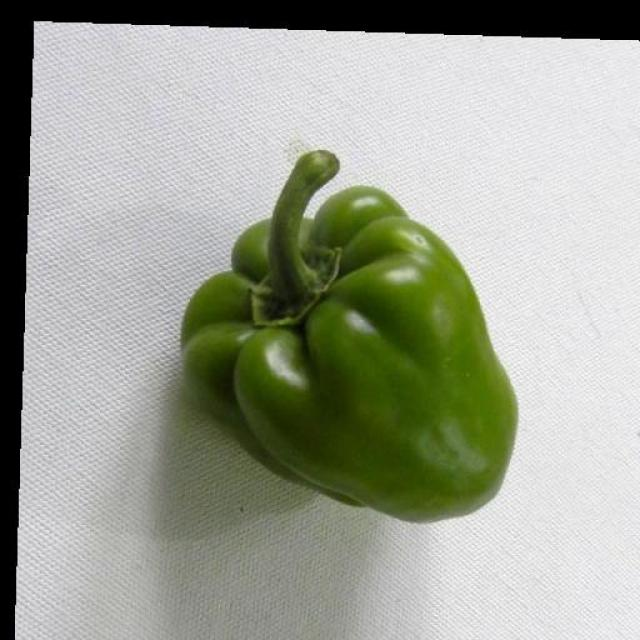Fresh_Capsicum: (206, 140, 534, 542)
